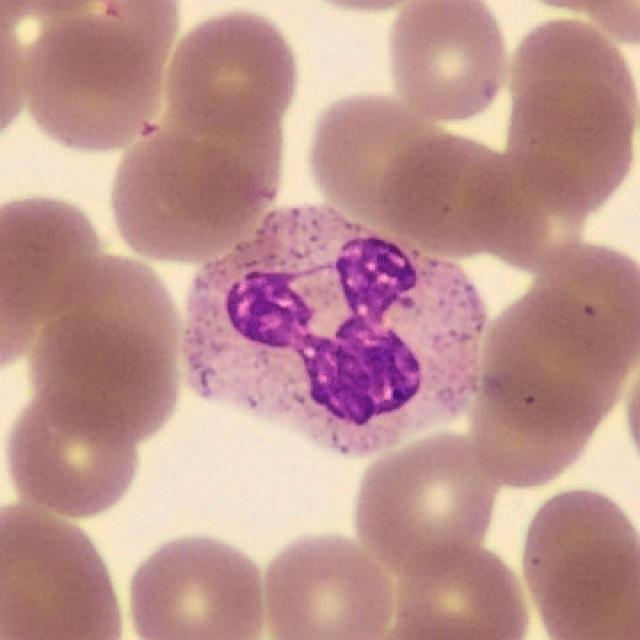Neutrofilo segmentado: (181, 206, 487, 459)
